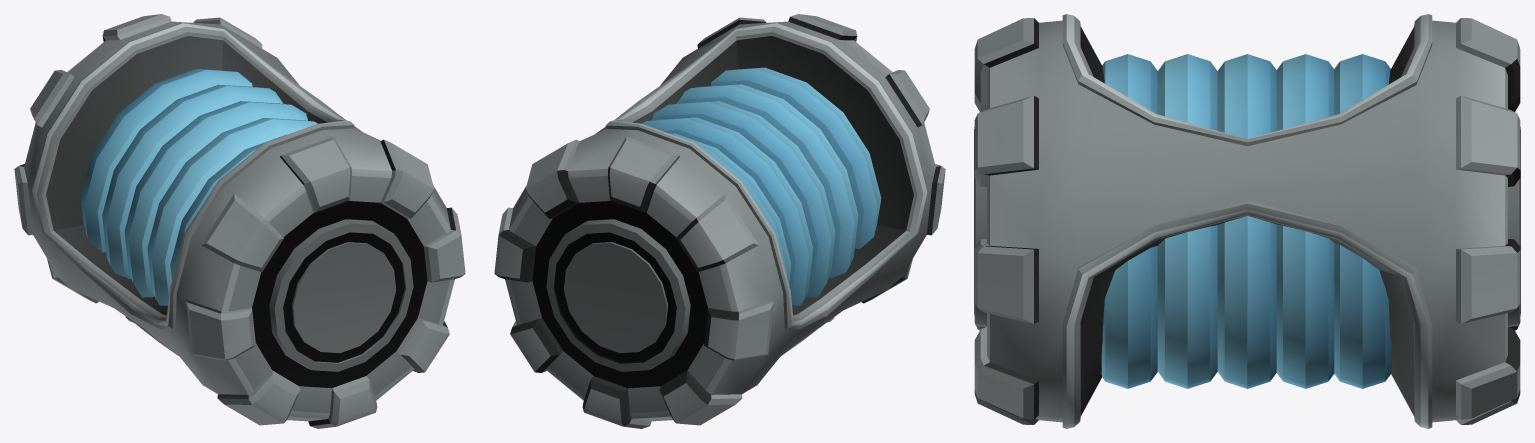
Rendered from Fixed_Item_PlasmaCell_Ver1.fbx.
3 renders of one model, left to right at view 1: azimuth 30°, elevation 25°; view 2: azimuth 150°, elevation 25°; view 3: azimuth 270°, elevation 25°, orthographic. The views are drawn at different scales.
Parts seen in each view (by area): view 1: Coils; view 2: Coils; view 3: Coils.
Part boxes in pixels (<box>): Coils: <box>14,14,465,428</box>; Coils: <box>494,14,945,428</box>; Coils: <box>974,14,1520,428</box>.
Size of the model in its own units: 193 by 193 by 253.
Materials: 2 (2 with a texture image).
